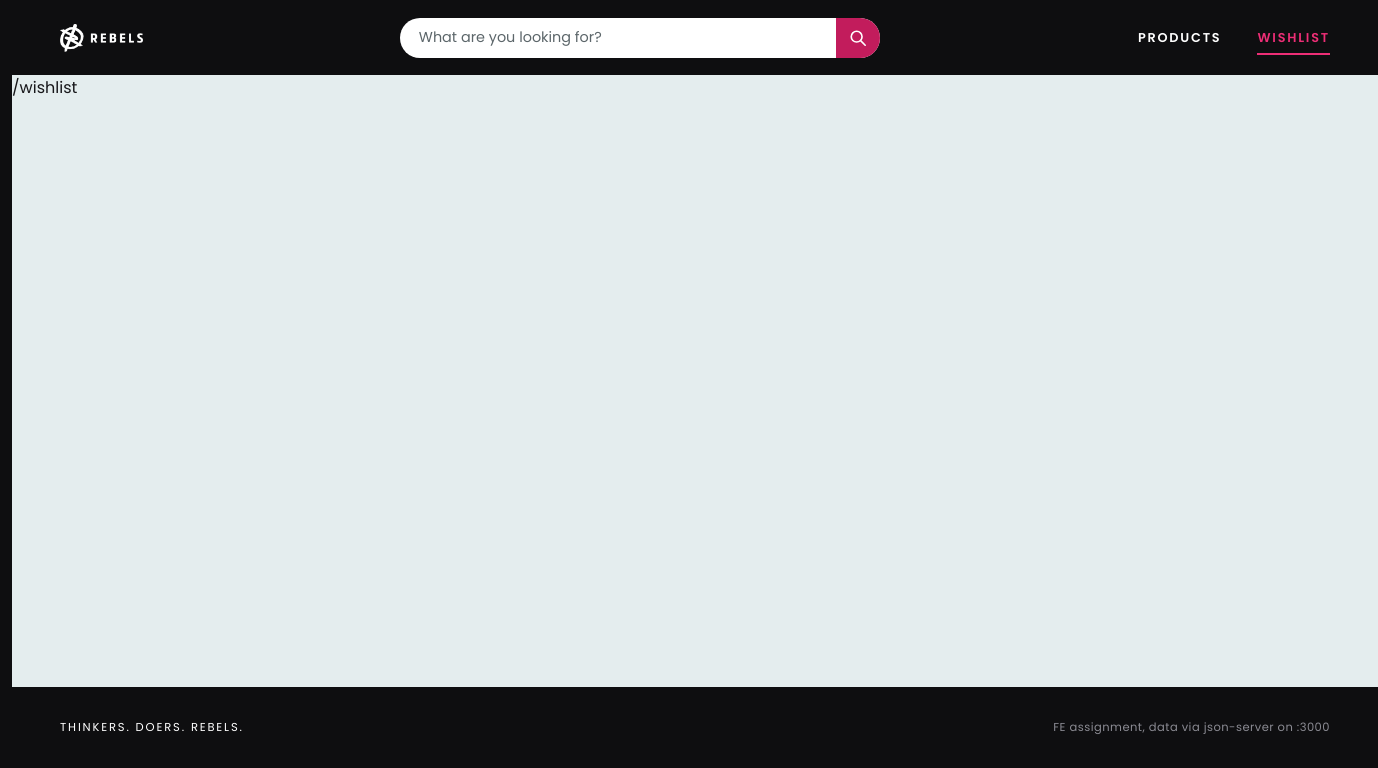
Test case: HeaderSearch › picking a product suggestion searches for it instead of opening its detail page
The width and height of the screenshot is (1378, 768).
Type "mouse" into the dropdown named "Search products" at (618, 38), box [400,18,836,58]
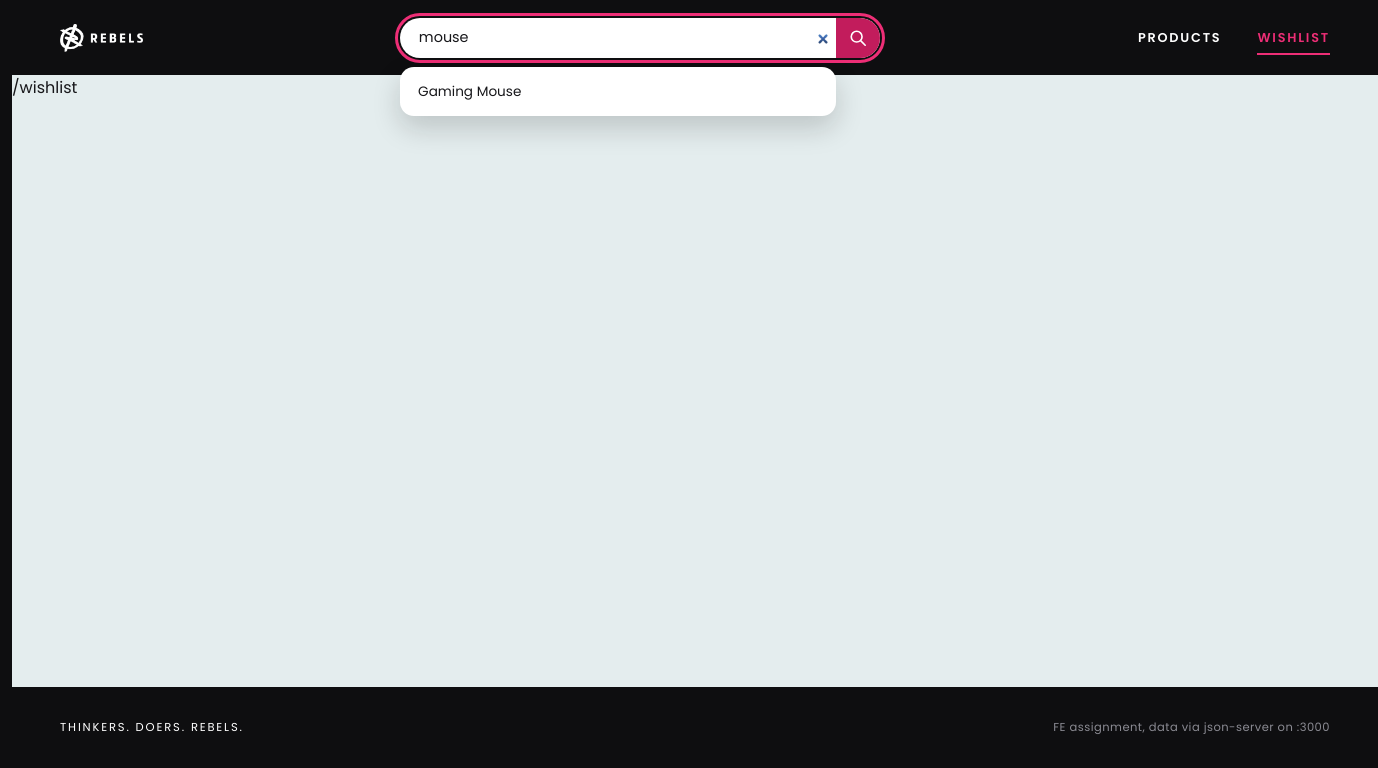
Click the option "Gaming Mouse" at (470, 91), box [418,82,521,101]
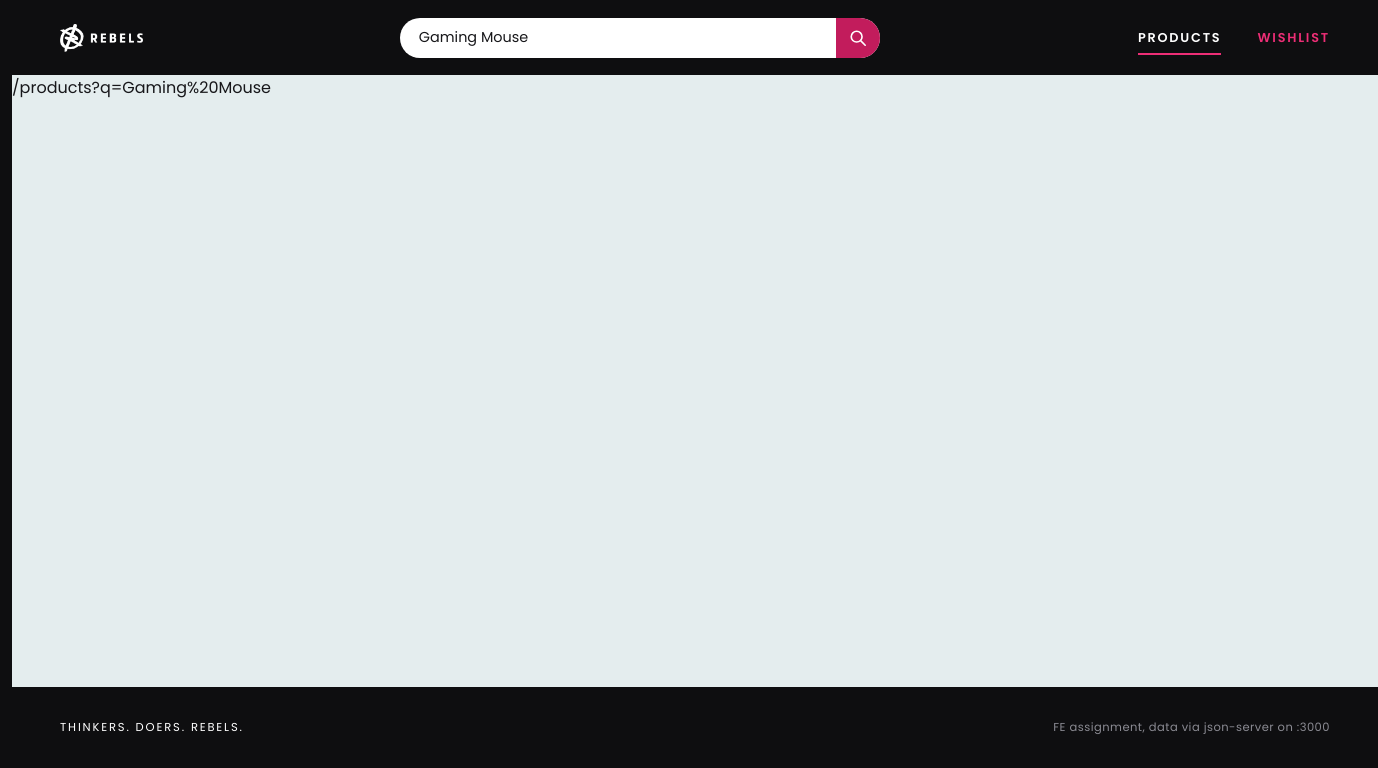
Check: the text with test id "location" reads "/products?q=Gaming%20Mouse", box [12,76,271,99]
Check: the dropdown named "Search products" holds "Gaming Mouse", box [400,18,836,58]
